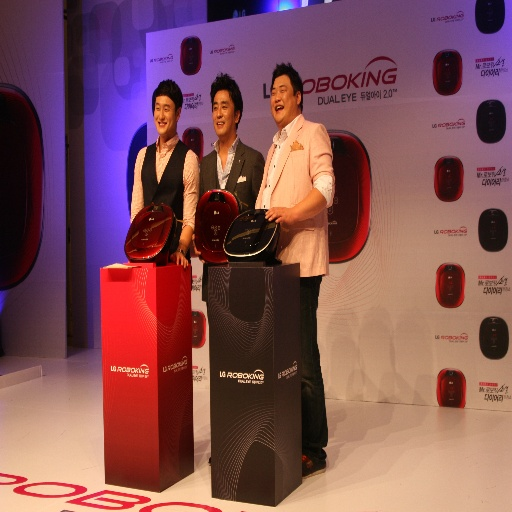hand: (264, 204, 293, 227), (191, 231, 205, 266), (168, 248, 189, 270)
